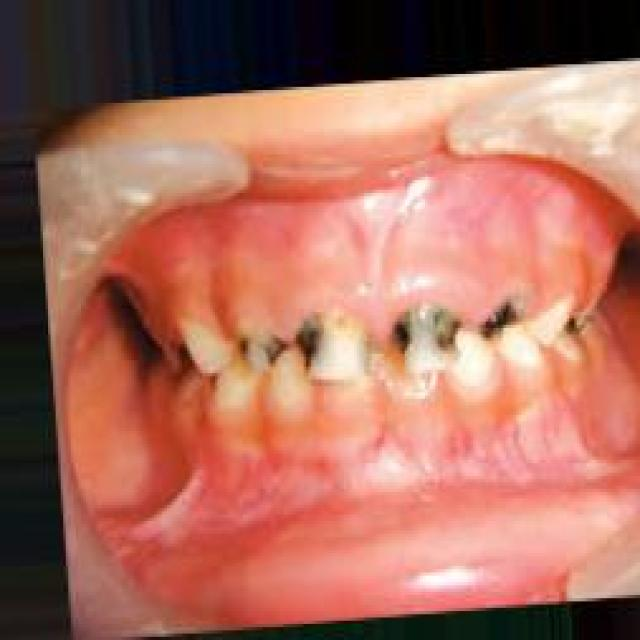caries: (386, 291, 457, 367), (299, 298, 346, 382), (238, 311, 291, 378), (481, 291, 531, 357), (556, 284, 594, 349)
